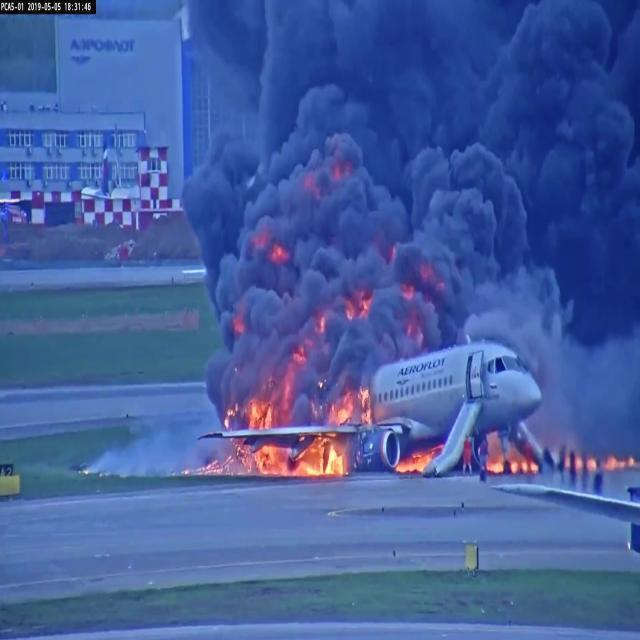Fire: (245, 445, 357, 473)
Smoke: (198, 113, 398, 353), (493, 8, 629, 231), (392, 155, 535, 321)
